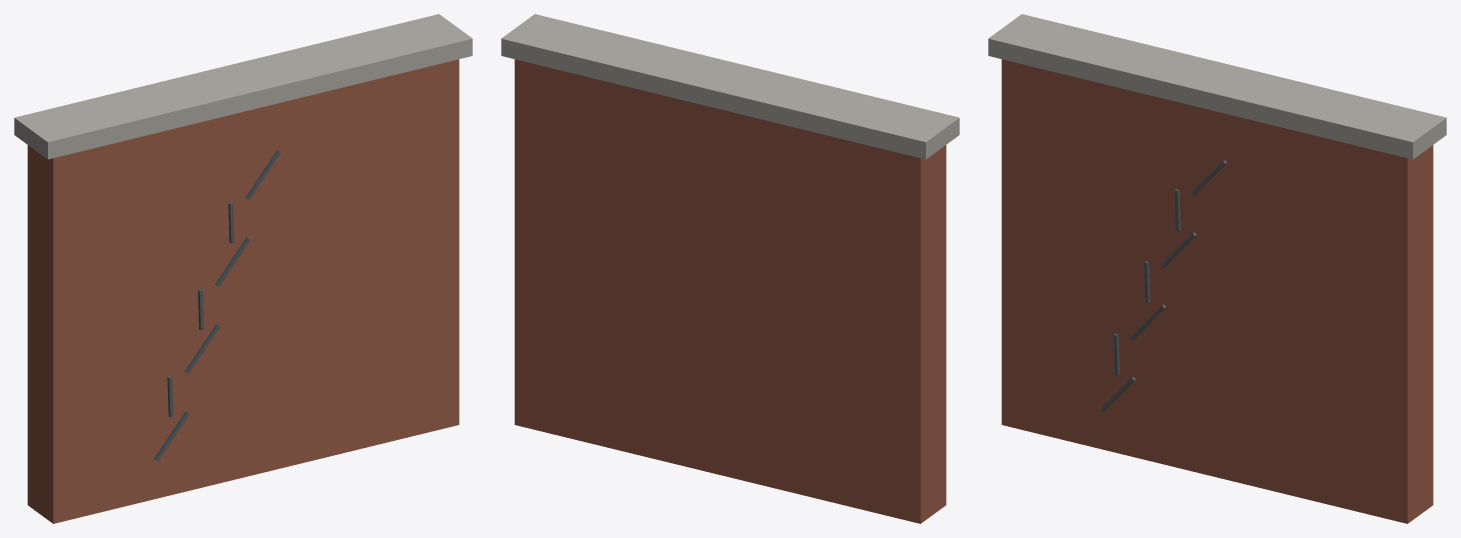
3 renders of one model, left to right at view 1: azimuth 30°, elevation 25°; view 2: azimuth 150°, elevation 25°; view 3: azimuth 330°, elevation 25°, orthographic.
Parts seen in each view (by area): view 1: QH-A0110_V01_geometry; view 2: QH-A0110_V01_geometry; view 3: QH-A0110_V01_geometry.
Boxes of the visible parts, box(x1,y1,x2,y2) form: QH-A0110_V01_geometry: box(14, 14, 472, 523); QH-A0110_V01_geometry: box(501, 14, 959, 523); QH-A0110_V01_geometry: box(988, 14, 1446, 523).
Size of the model in its own units: 3.35 by 2.91 by 0.46.
